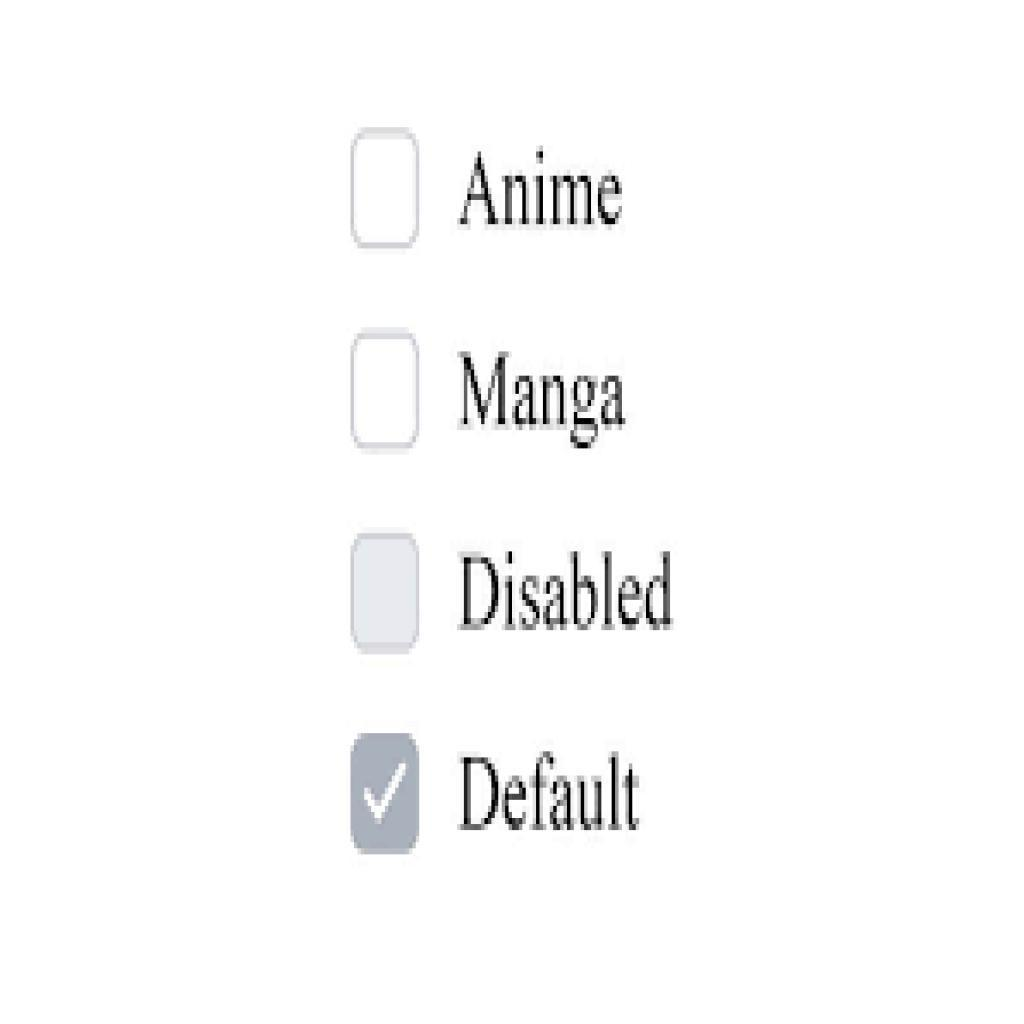checkbox: (354, 336, 422, 451), (354, 536, 420, 654), (353, 735, 418, 852), (354, 134, 419, 244)
label: (459, 546, 679, 644), (459, 747, 648, 848), (456, 343, 633, 440), (457, 146, 629, 238)
